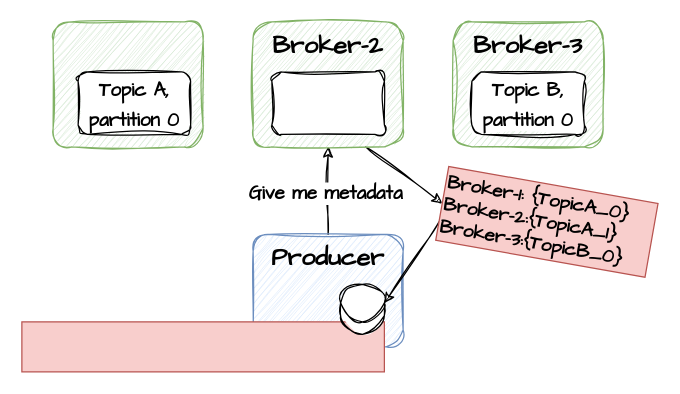
Some shapes in this 680 by 394 pixel diagram are drawn without their labels. The box of each missing label's shape, as (x1, y1, x2, y2) in pixels:
bootstrap.servers: broker-1, broker-2: (21, 321, 384, 372)
Broker-1: (52, 21, 203, 147)
Topic A, partition 1: (271, 71, 384, 134)
